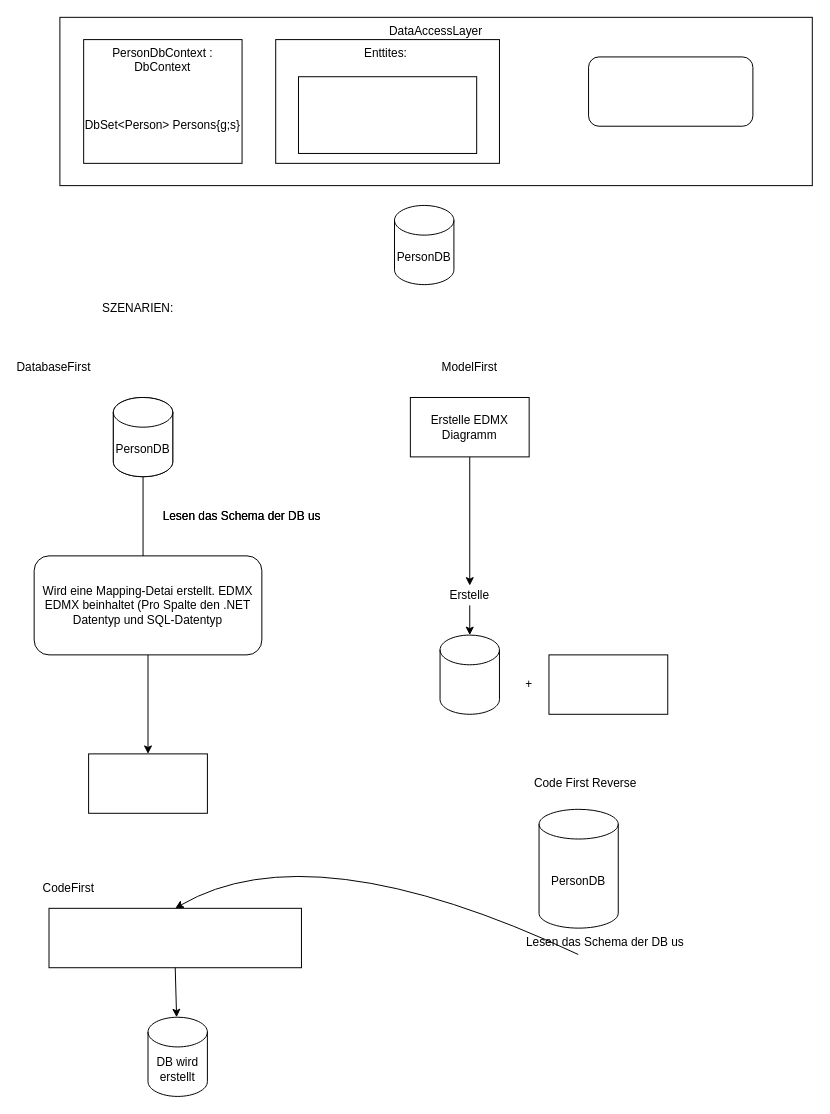
The diagram is 830 pixels wide and 1114 high, and some of its shapes have lost their labels. The centre of each missing label's shape, as x and y in pixels:
"- Entities und PersonDbContext-Klasse wird erstellt" goes at (147,783).
"PersonDBContext + Entities" goes at (608,684).
"public Person { public int Id {get;set;} public string Name {get;set;} }" goes at (387,114).
"Referenz: EFCore" goes at (670,91).
"Schreibe Entities + DbContext Klasse" goes at (174,937).
